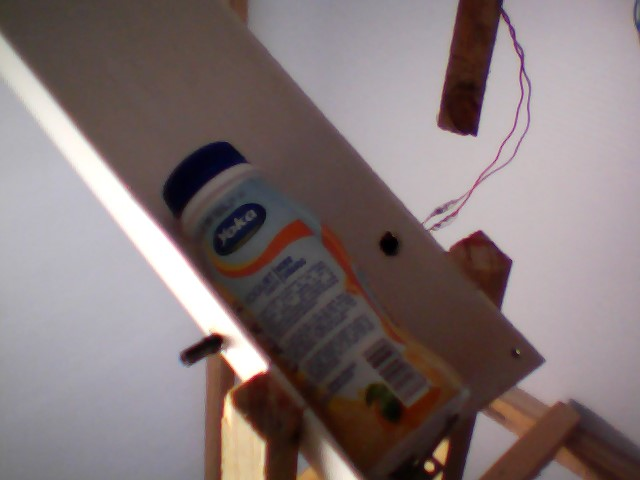plastico: (153, 137, 473, 478)
